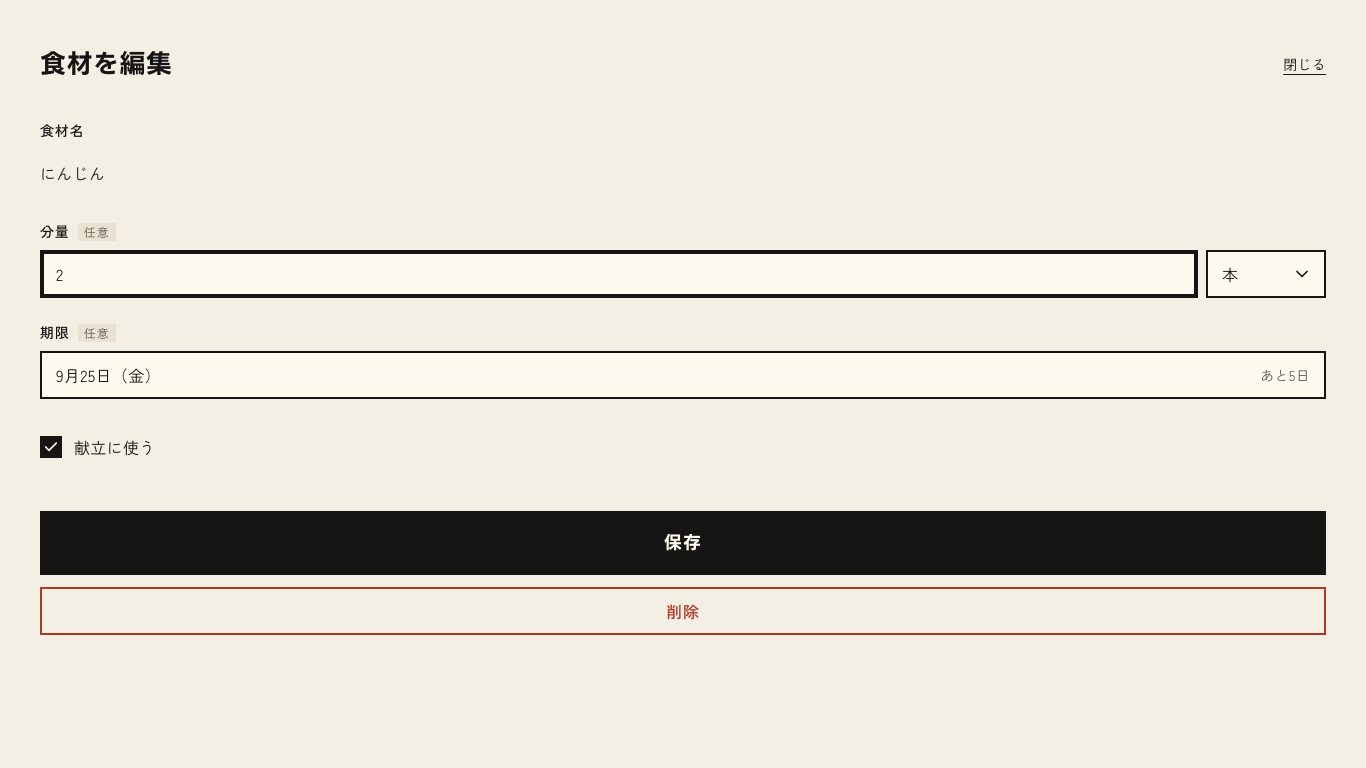
Test: 編集の画面 StockItemEditForm の削除 › 確認の削除を押すと、結末を待たずに確認は閉じる
The width and height of the screenshot is (1366, 768).
Click the button "削除". click: (683, 611)
box: [40, 587, 1326, 635]
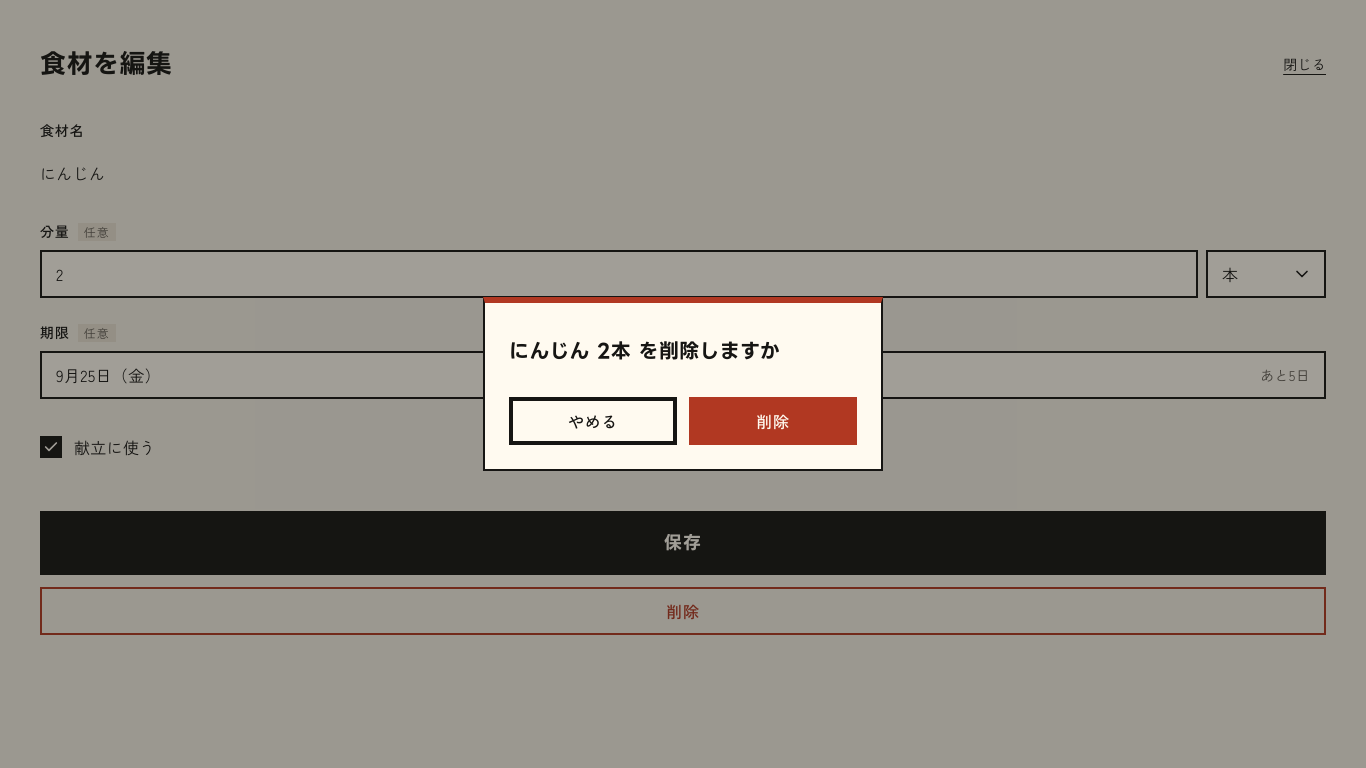
Click the button "削除". click: (773, 421)
box: [689, 397, 857, 445]
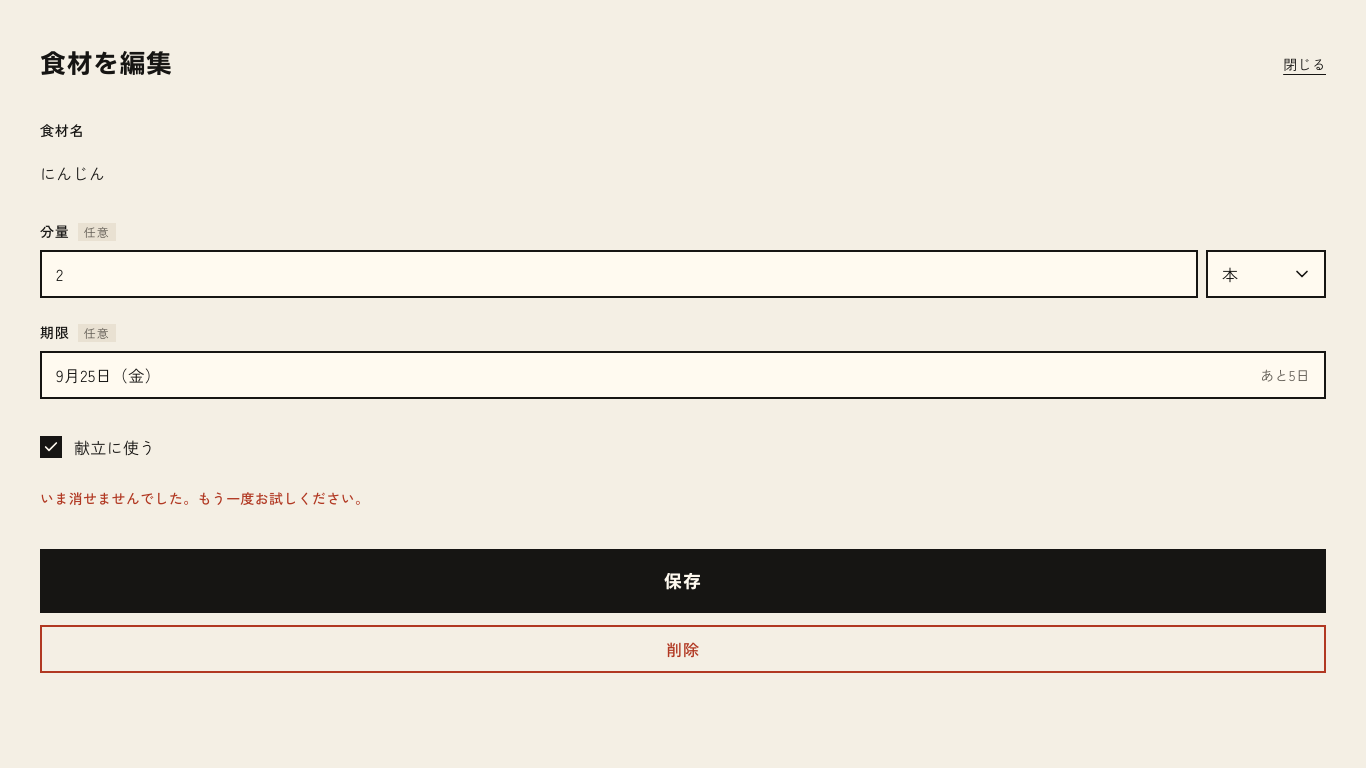
Now no dialogs are shown
